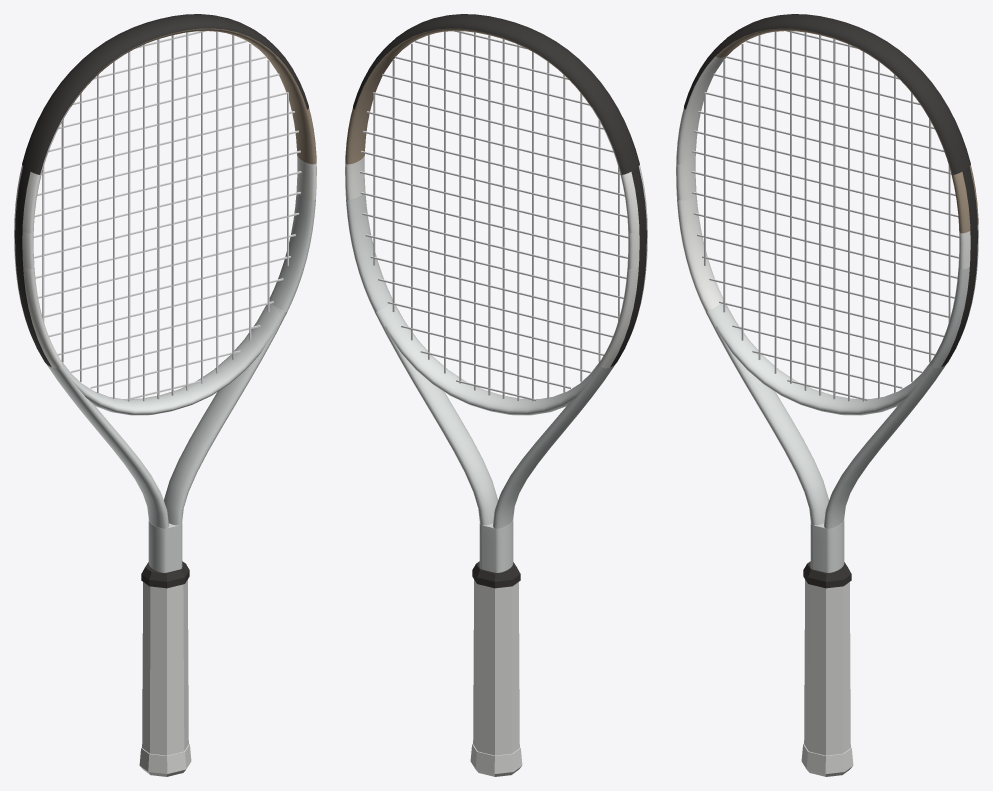
The model's file is dunlop-lx-800-2024.glb.
3 views of the same model, side by side, from view 1: azimuth 30°, elevation 25°; view 2: azimuth 150°, elevation 25°; view 3: azimuth 330°, elevation 25° (orthographic).
Parts seen in each view (by area): view 1: frame, strings_mains, strings_crosses, grip, bumper, grommets, butt_cap, collar; view 2: frame, strings_mains, strings_crosses, grip, bumper, grommets, butt_cap, collar; view 3: frame, strings_mains, strings_crosses, grip, bumper, grommets, butt_cap, collar.
Boxes of the visible parts, left/top/right/bottom form: frame: left=14, top=28, right=316, bottom=572; strings_mains: left=42, top=31, right=288, bottom=401; strings_crosses: left=33, top=31, right=301, bottom=400; grip: left=142, top=579, right=188, bottom=755; bumper: left=22, top=14, right=308, bottom=174; grommets: left=15, top=166, right=51, bottom=366; butt_cap: left=139, top=744, right=191, bottom=776; collar: left=141, top=561, right=189, bottom=588; frame: left=345, top=28, right=647, bottom=572; strings_mains: left=373, top=31, right=619, bottom=401; strings_crosses: left=360, top=31, right=628, bottom=400; grip: left=473, top=579, right=519, bottom=755; bumper: left=353, top=14, right=639, bottom=174; grommets: left=610, top=166, right=646, bottom=366; butt_cap: left=470, top=744, right=522, bottom=776; collar: left=472, top=561, right=520, bottom=588; frame: left=676, top=28, right=978, bottom=572; strings_mains: left=704, top=31, right=950, bottom=401; strings_crosses: left=691, top=31, right=959, bottom=400; grip: left=804, top=579, right=850, bottom=755; bumper: left=684, top=14, right=970, bottom=174; grommets: left=941, top=166, right=977, bottom=366; butt_cap: left=801, top=744, right=853, bottom=776; collar: left=803, top=561, right=851, bottom=588.
Bounding box in the file's own units: 0.2837 × 0.6861 × 0.0377.
